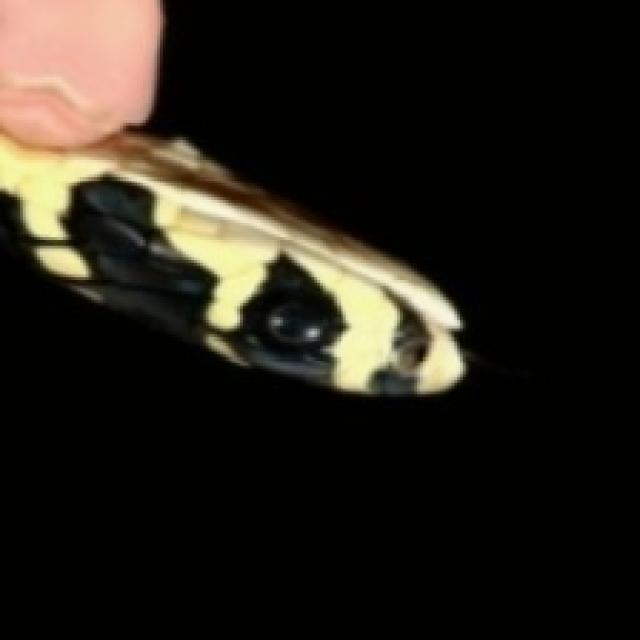king cobra: (0, 131, 463, 391)
